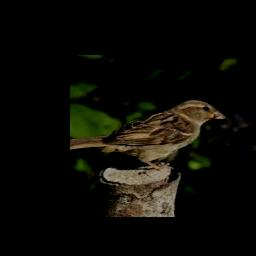Sparrow: (70, 99, 226, 169)
